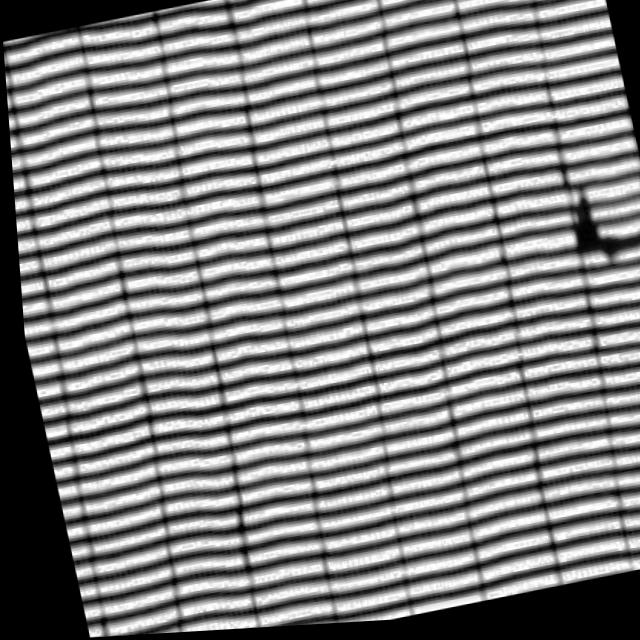Stitch: (538, 177, 640, 306)
